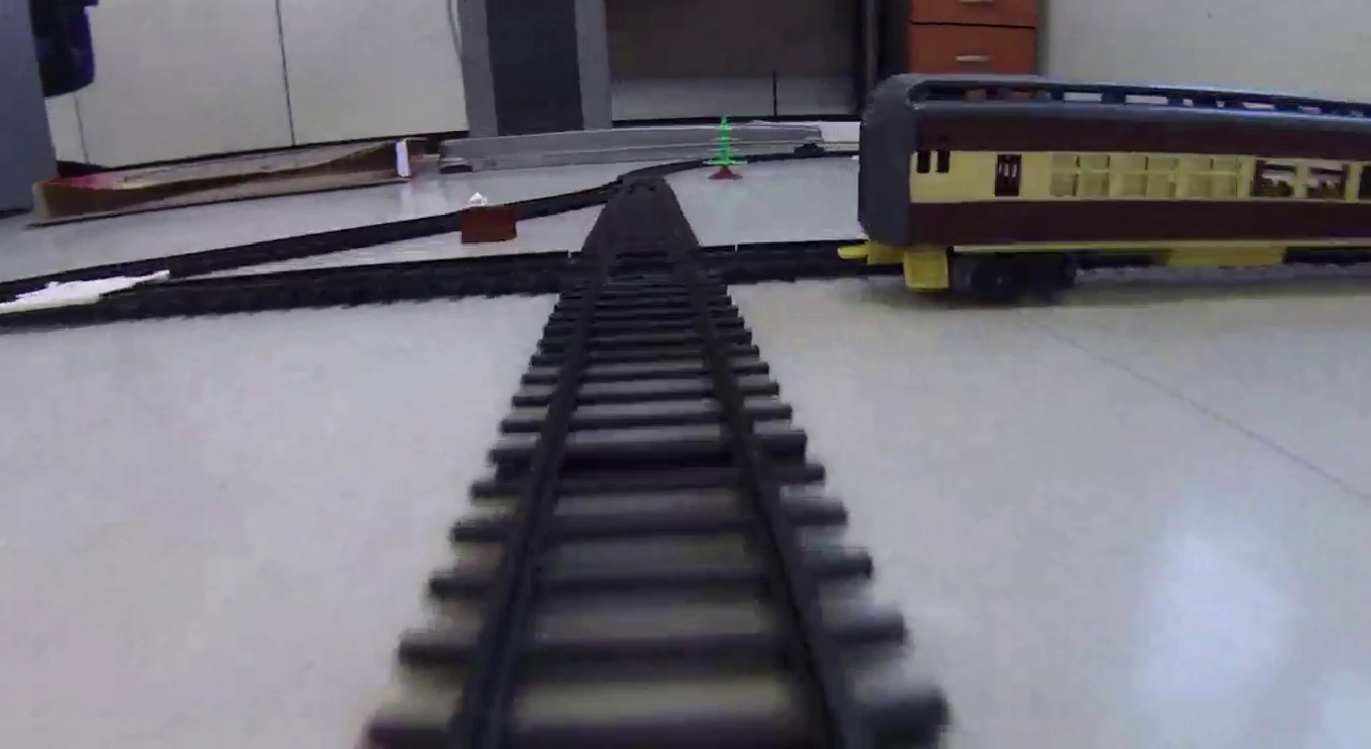box: (462, 207, 521, 240)
tree: (702, 116, 749, 182)
